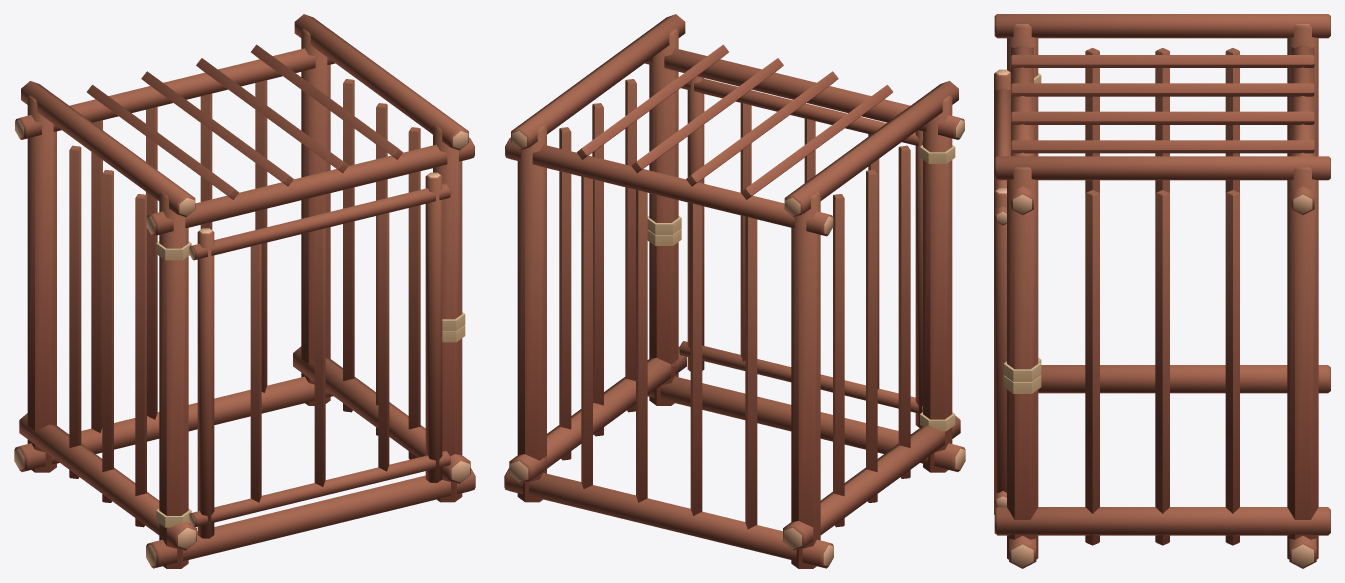
File: cage_A.fbx
3 views of the same model, side by side, from view 1: azimuth 30°, elevation 25°; view 2: azimuth 150°, elevation 25°; view 3: azimuth 270°, elevation 25° (orthographic). The views are drawn at different scales.
Parts seen in each view (by area): view 1: cage_A, cage_A_door; view 2: cage_A, cage_A_door; view 3: cage_A, cage_A_door.
Part boxes in pixels (box(x1,y1,x2,y2)): cage_A: box(14, 14, 475, 568); cage_A_door: box(189, 172, 450, 538); cage_A: box(504, 14, 965, 568); cage_A_door: box(679, 76, 922, 427); cage_A: box(994, 14, 1330, 568); cage_A_door: box(994, 69, 1010, 514).
Bounding box in the file's own units: 0.7 × 0.7914 × 0.601.
Materials: 1 (1 with a texture image).
